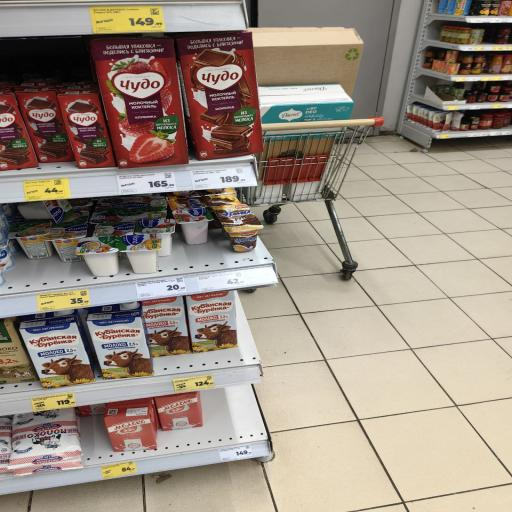shopping_cart: (257, 116, 386, 282)
